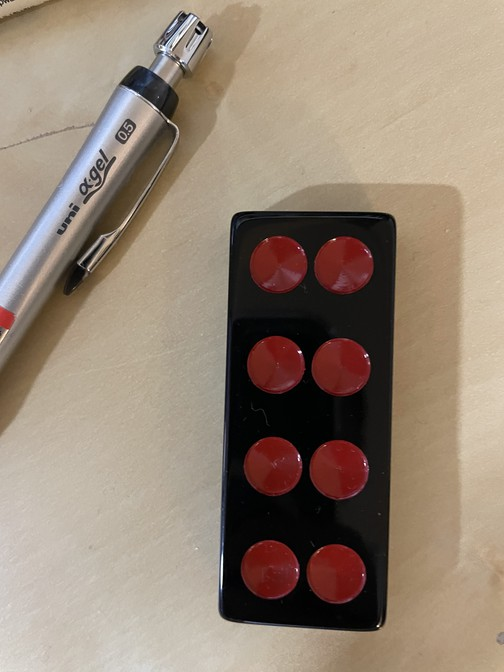man: (219, 212, 396, 634)
